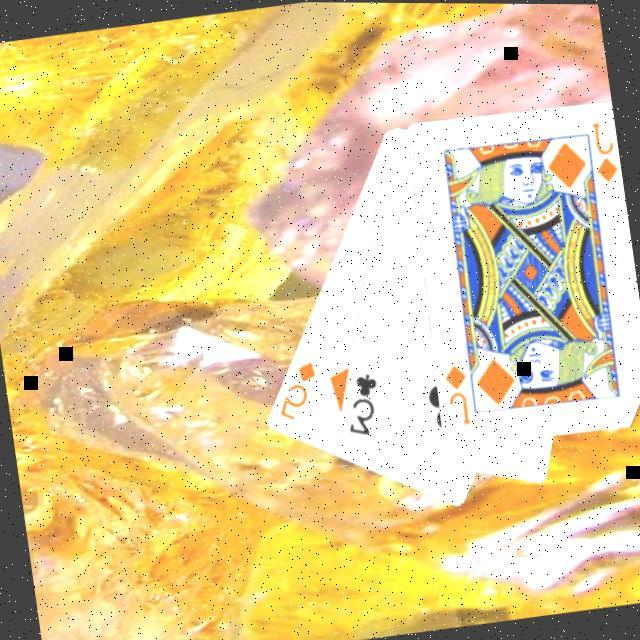3C: (335, 366, 386, 439)
5D: (268, 355, 323, 424)
JD: (438, 358, 475, 427), (585, 115, 621, 184)
